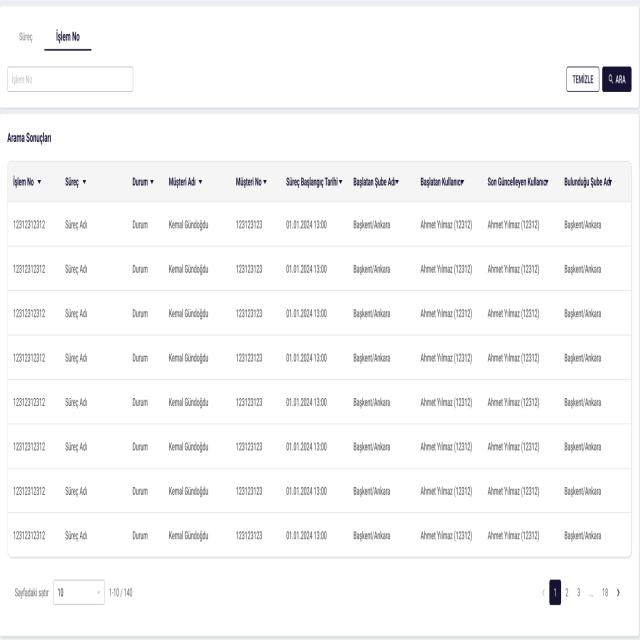QLabel: (6, 130, 52, 145), (54, 29, 81, 43), (572, 73, 594, 85), (16, 30, 34, 44), (615, 73, 626, 85)
VBtn: (566, 64, 600, 94), (602, 64, 632, 94)
VCard: (0, 113, 640, 638), (0, 4, 640, 110)
VDataTable: (7, 158, 633, 615)
VIcon: (607, 72, 614, 86)
VTab: (46, 24, 90, 46), (8, 24, 42, 49)
VTabs: (3, 14, 638, 55)
VTextField: (7, 64, 134, 94)
